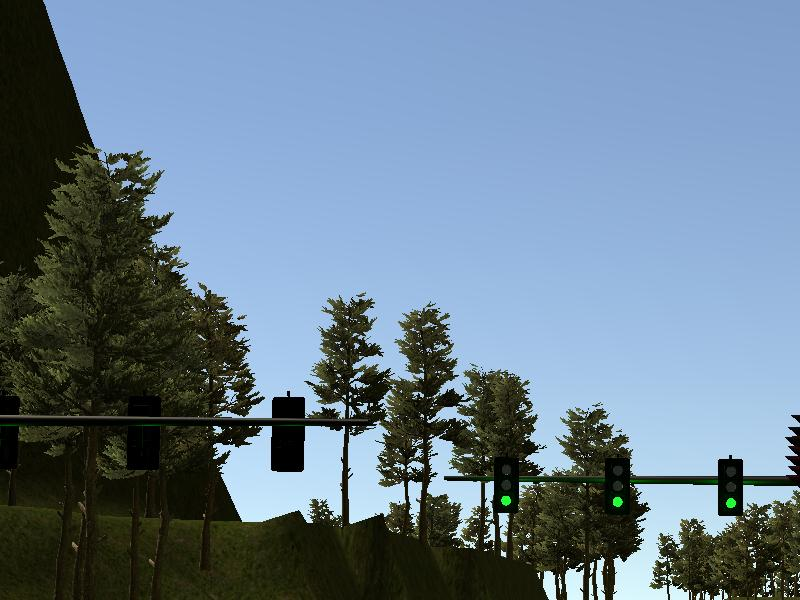Green: (607, 460, 632, 516), (719, 458, 742, 516), (495, 456, 517, 512)
